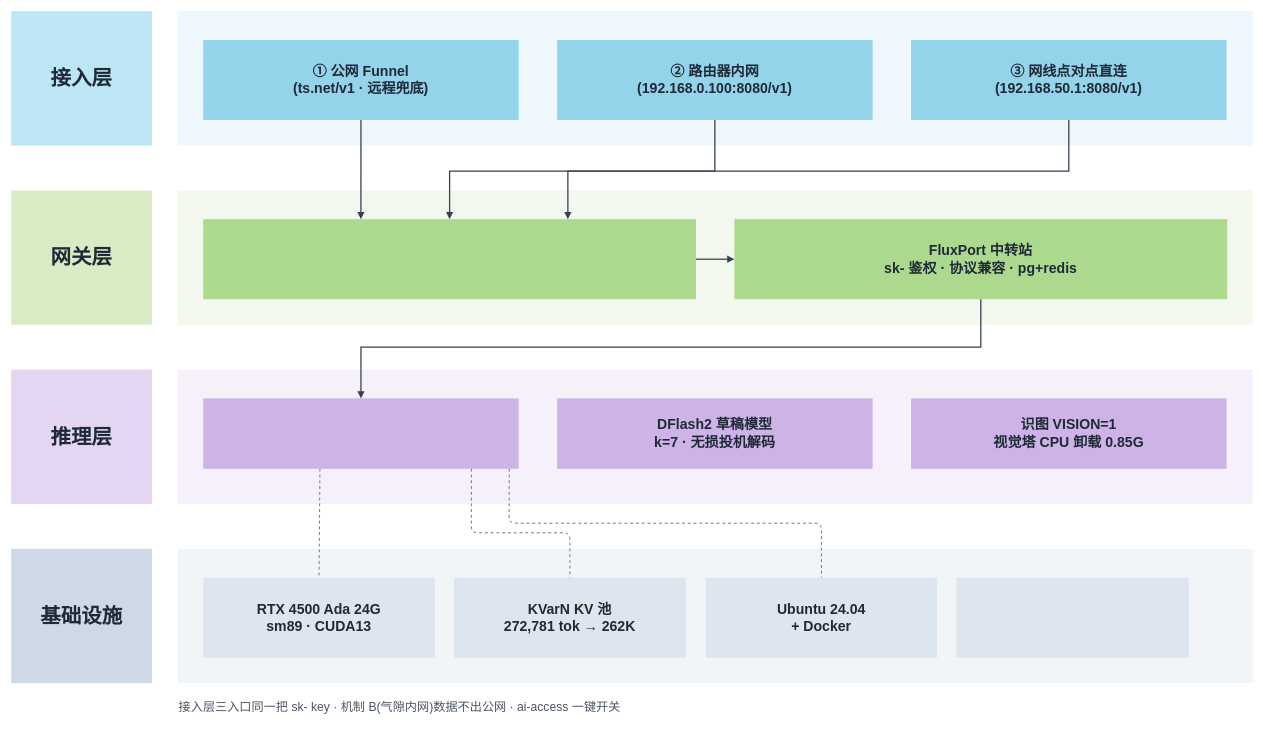
Image size: 1263x732. Some labels were removed from this diagram. Each missing label, with the centre of its shape:
nginx 统一收口 三监听 · 只放 /v1+/health: point 449,259
systemd 开机自启: point 1072,617
vLLM+HyperQwen Qwen3.8-27B (262144 ctx): point 360,433
